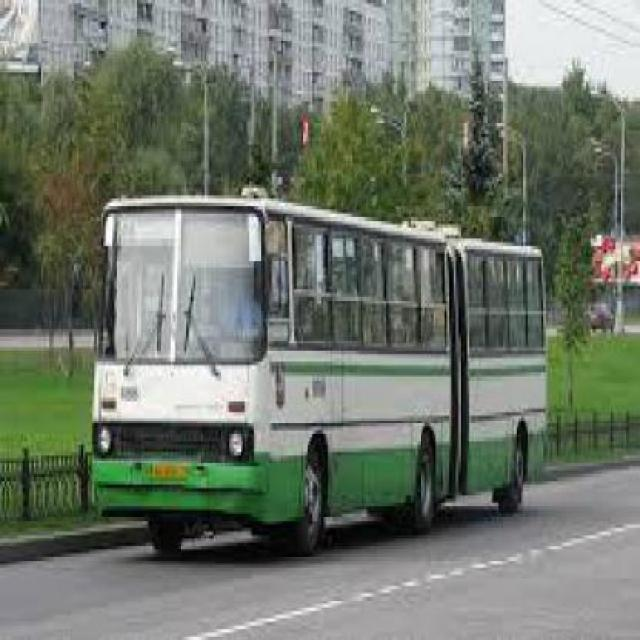bus: (98, 195, 550, 545)
